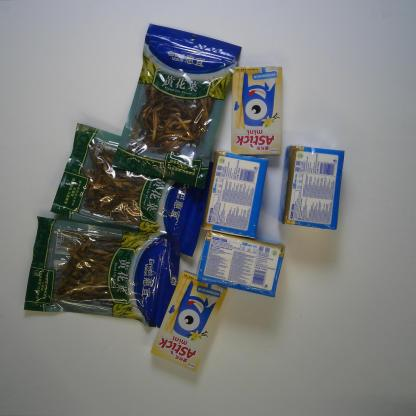Dessert: (148, 267, 231, 373), (226, 64, 284, 158)
Dried Food: (46, 120, 219, 258), (110, 22, 240, 190), (19, 216, 186, 332)
Tissue: (192, 228, 288, 299), (276, 143, 347, 232), (202, 149, 269, 241)
